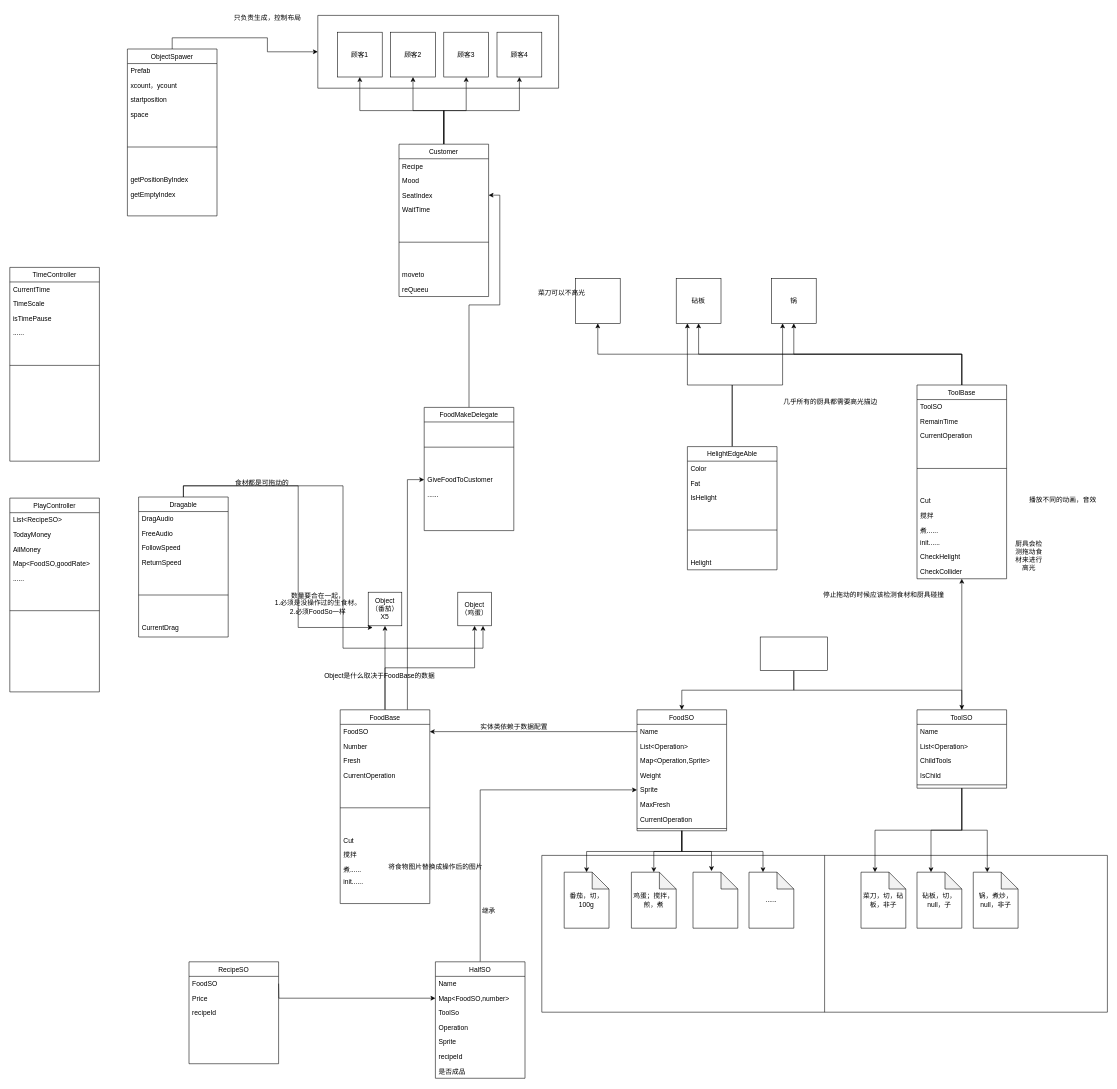
The diagram is 1117 pixels wide and 1089 high, and some of its shapes have lost their labels. Here are the shapes that lost their labels. From the top down, the centre of each, then its label:
the point at 597,300: 菜刀
the point at 793,653: DataConfig
